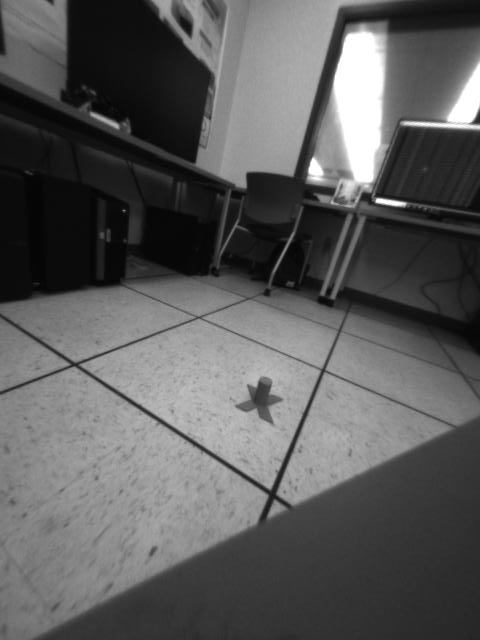X: (234, 377, 284, 425)
